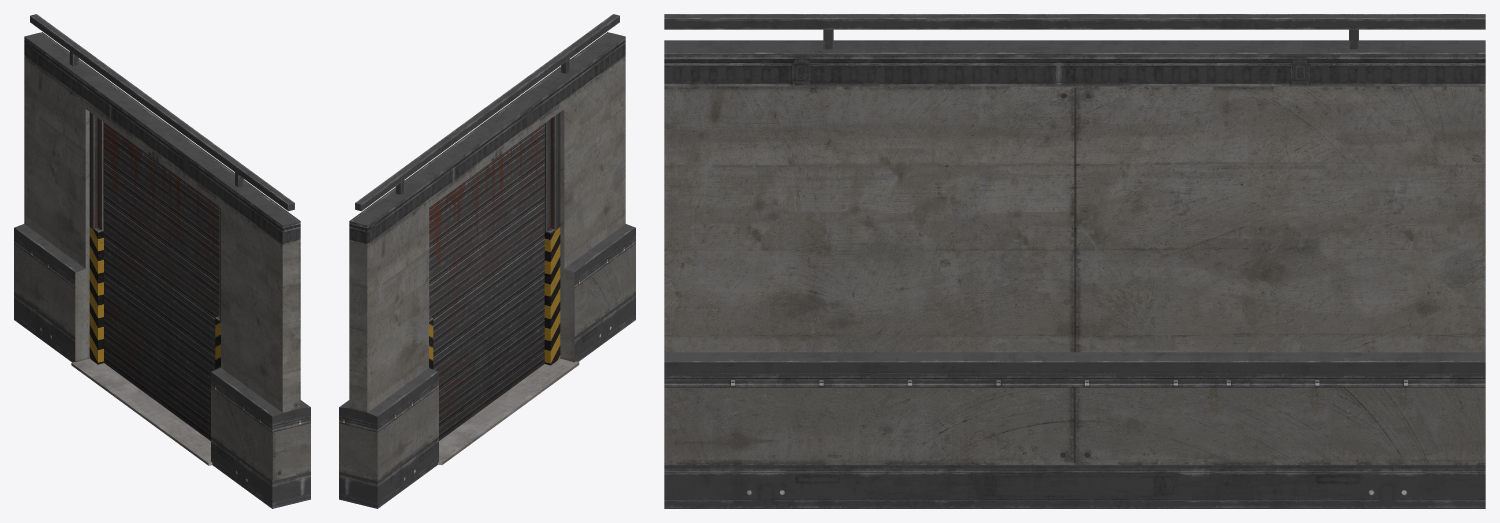
Rendered from CP_Fence_B_Gate.fbx.
3 views of the same model, side by side, from view 1: azimuth 30°, elevation 25°; view 2: azimuth 150°, elevation 25°; view 3: azimuth 270°, elevation 25° (orthographic). The views are drawn at different scales.
Visible parts, largest first — view 1: CP_Fence_B_Gate; view 2: CP_Fence_B_Gate; view 3: CP_Fence_B_Gate.
Boxes of the visible parts, x1,y1,x2,y2 form: CP_Fence_B_Gate: (14, 14, 310, 508); CP_Fence_B_Gate: (339, 14, 635, 508); CP_Fence_B_Gate: (664, 14, 1485, 508).
Bounding box in the file's own units: 47.19 × 321 × 500.
